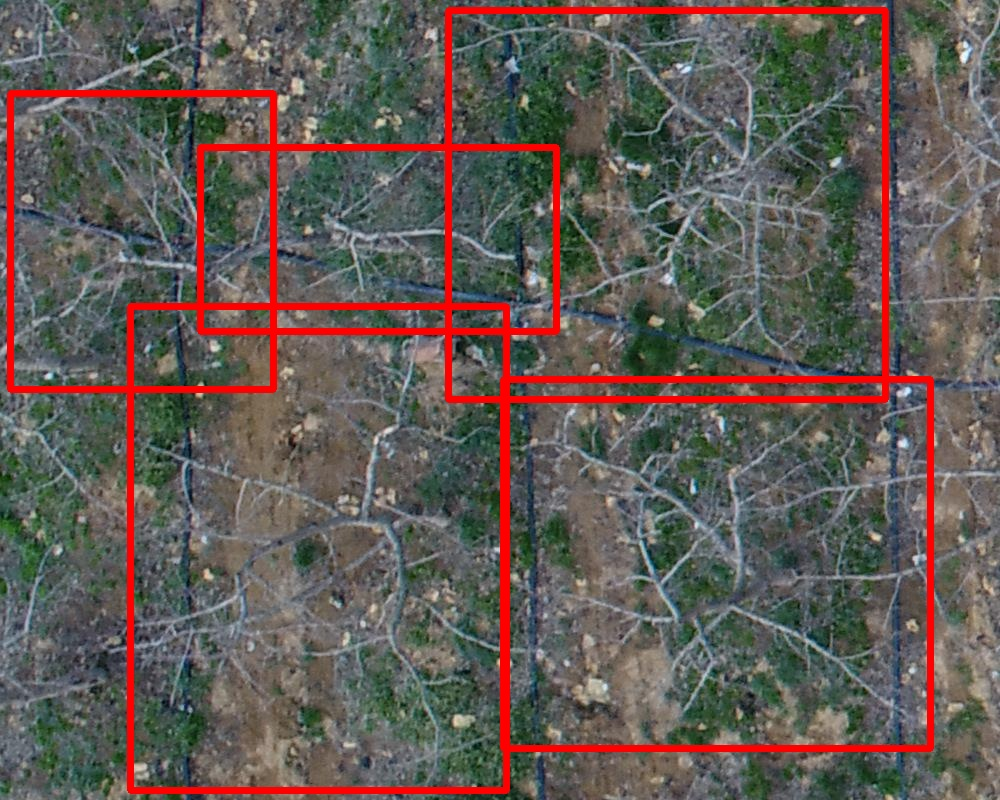apple: (130, 306, 506, 790), (448, 10, 885, 399), (503, 379, 930, 748), (10, 93, 273, 389), (200, 147, 556, 331)
